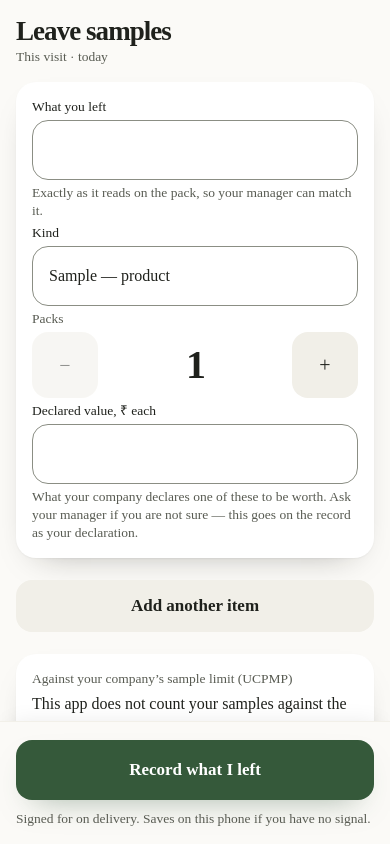
MR-20 B3 — a tap on an unusable screen is never silent › says the visit is not on this phone rather than doing nothing
Click the button "Record what I left" at coordinates (195, 770), box top-left (16, 740), bottom-right (374, 800)
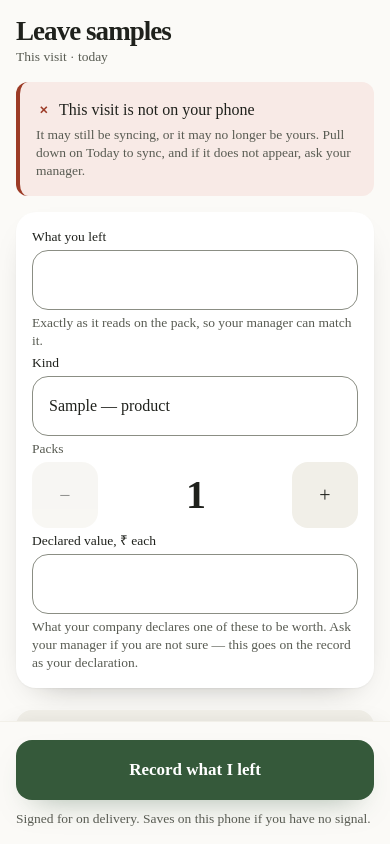
Result: the text "This visit is not on your phone" is shown at top-left (59, 101), bottom-right (255, 118)
